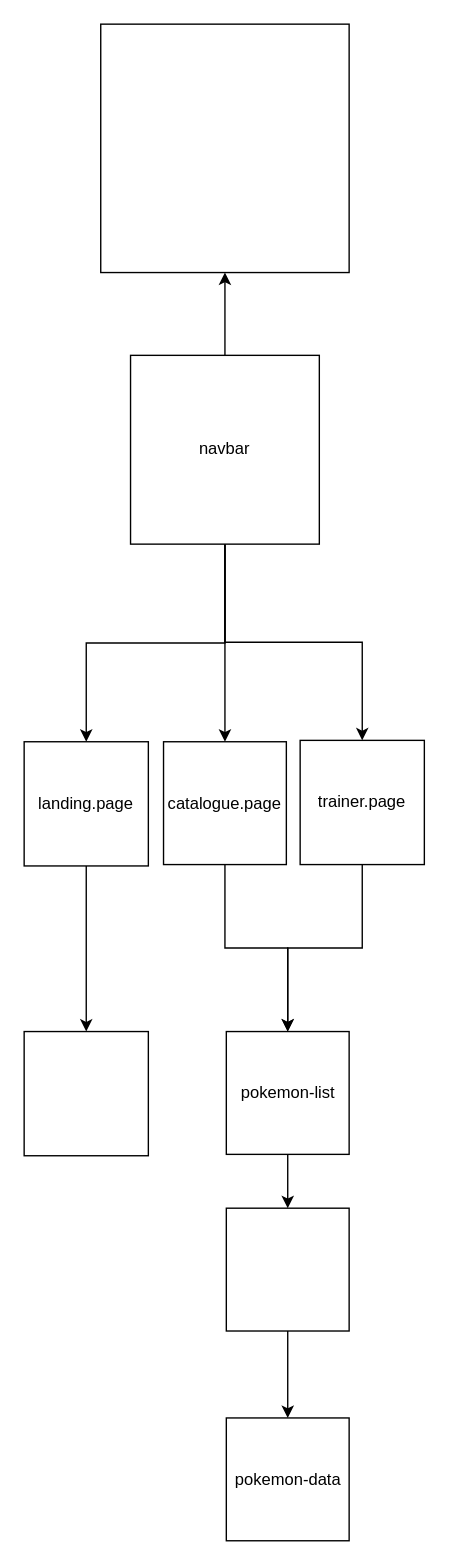
Image size: 449x1565. Some labels were removed from this diagram. Each missing label, with the box of its shape:
App.js: (99, 23, 349, 273)
login-form: (23, 1030, 148, 1156)
pokemon-list-item: (225, 1207, 349, 1331)
